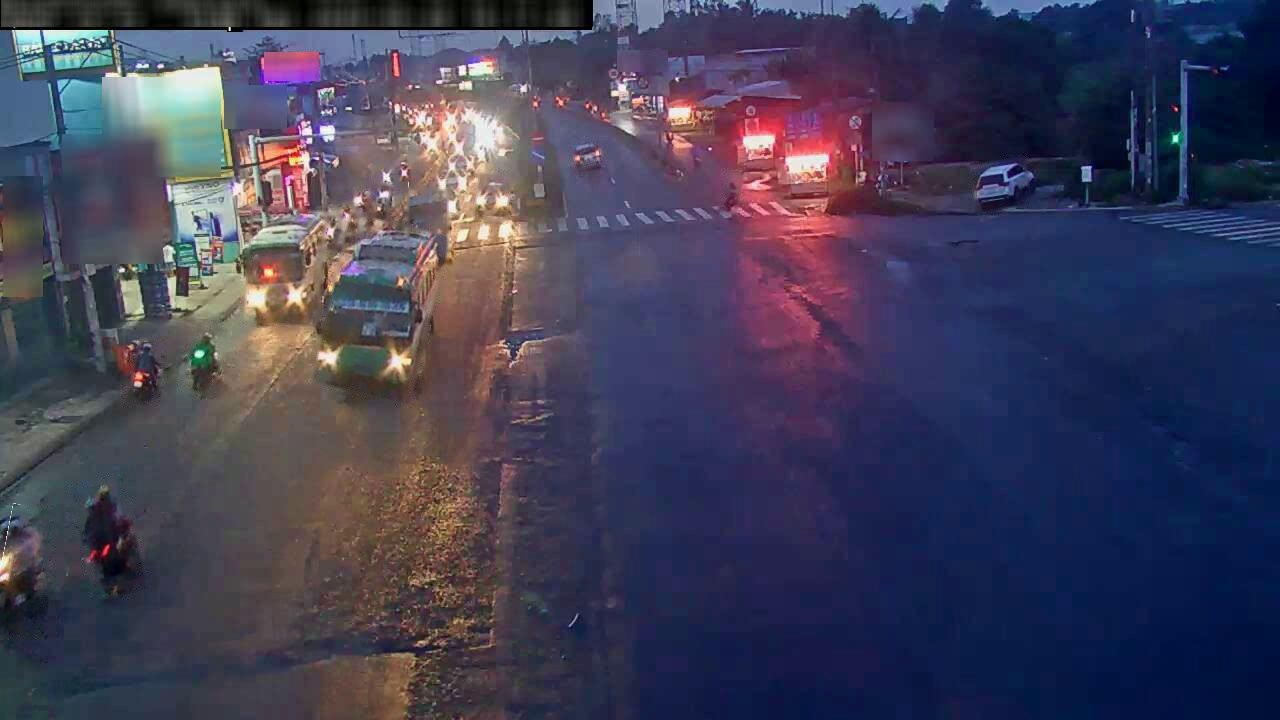Car: (974, 162, 1036, 209), (476, 180, 511, 216), (573, 143, 602, 169)
Motorcycle: (0, 506, 42, 611)
Motorcyclist: (189, 332, 220, 391), (131, 342, 160, 399), (367, 186, 390, 220), (335, 205, 355, 236), (354, 188, 373, 219), (323, 217, 341, 248), (722, 181, 739, 213)
Pedestrian: (83, 485, 119, 559)
Traffic light: (1168, 101, 1184, 145)
Truck: (316, 233, 440, 393), (238, 217, 332, 324), (407, 187, 450, 261)
